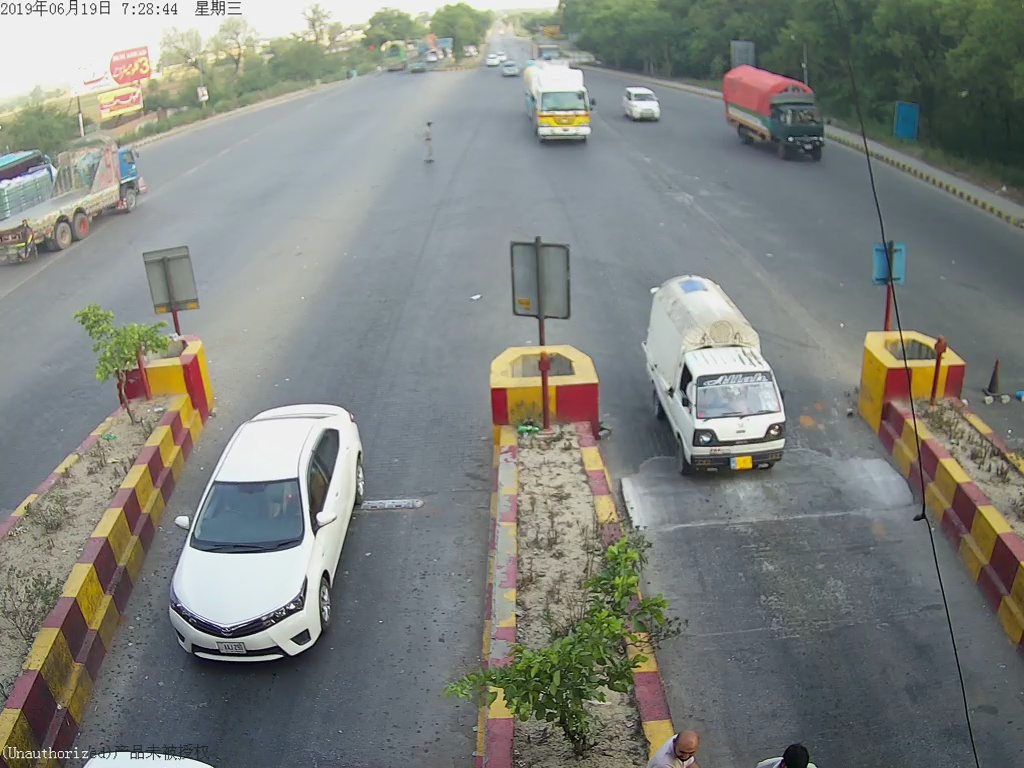Cat-1: (164, 407, 381, 678), (641, 272, 807, 486)
Cat-5: (524, 66, 596, 148)
